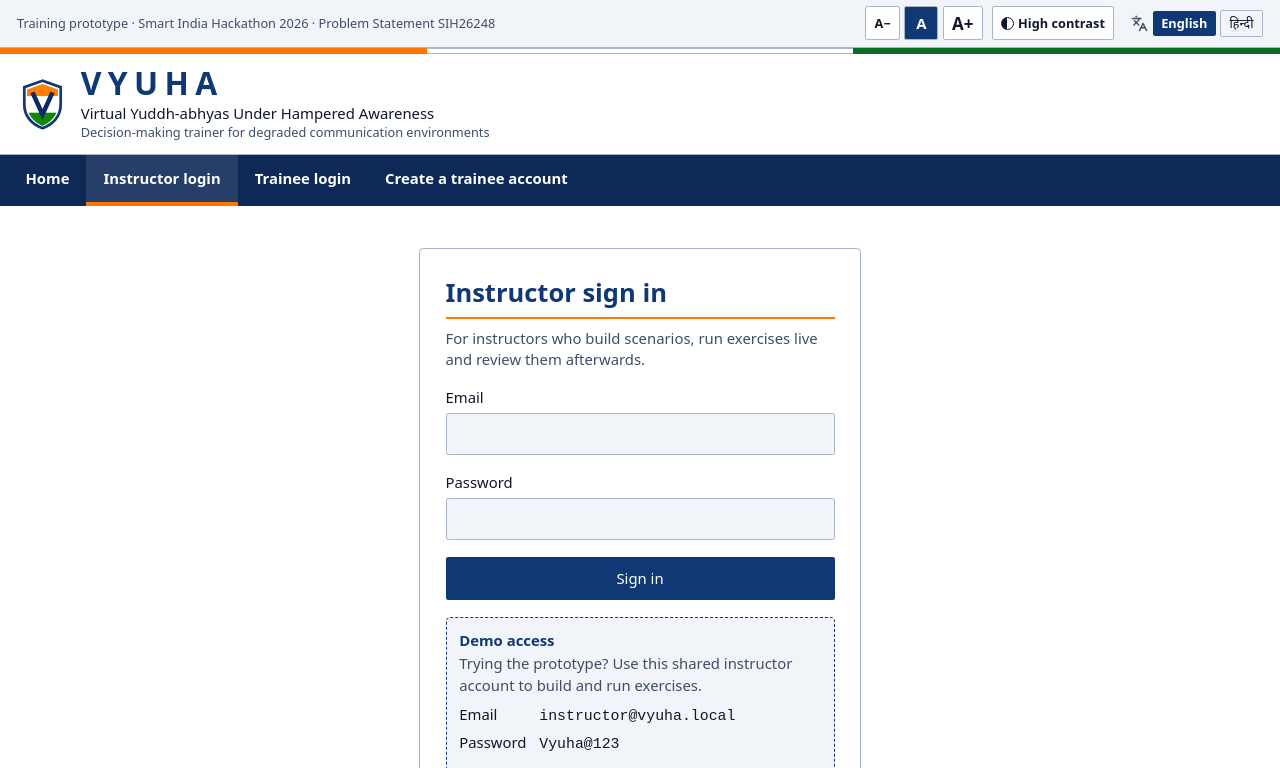
Test case: two sign-in options › drops the old server message when the next attempt fails the form checks
In the field labelled "Email": (640, 434) [446,413,834,455], type "t@x.io"
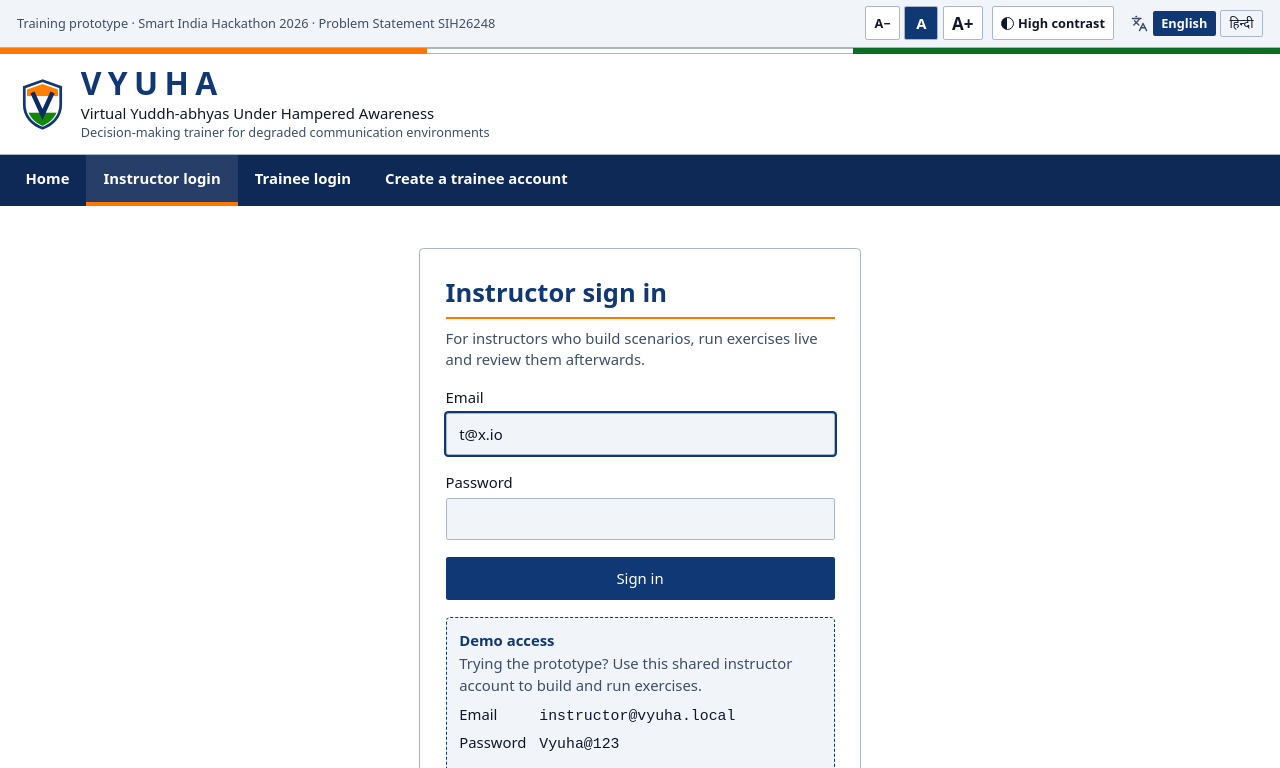
In the password field labelled "Password": (640, 519) [446,498,834,540], type "Vyuha@123"
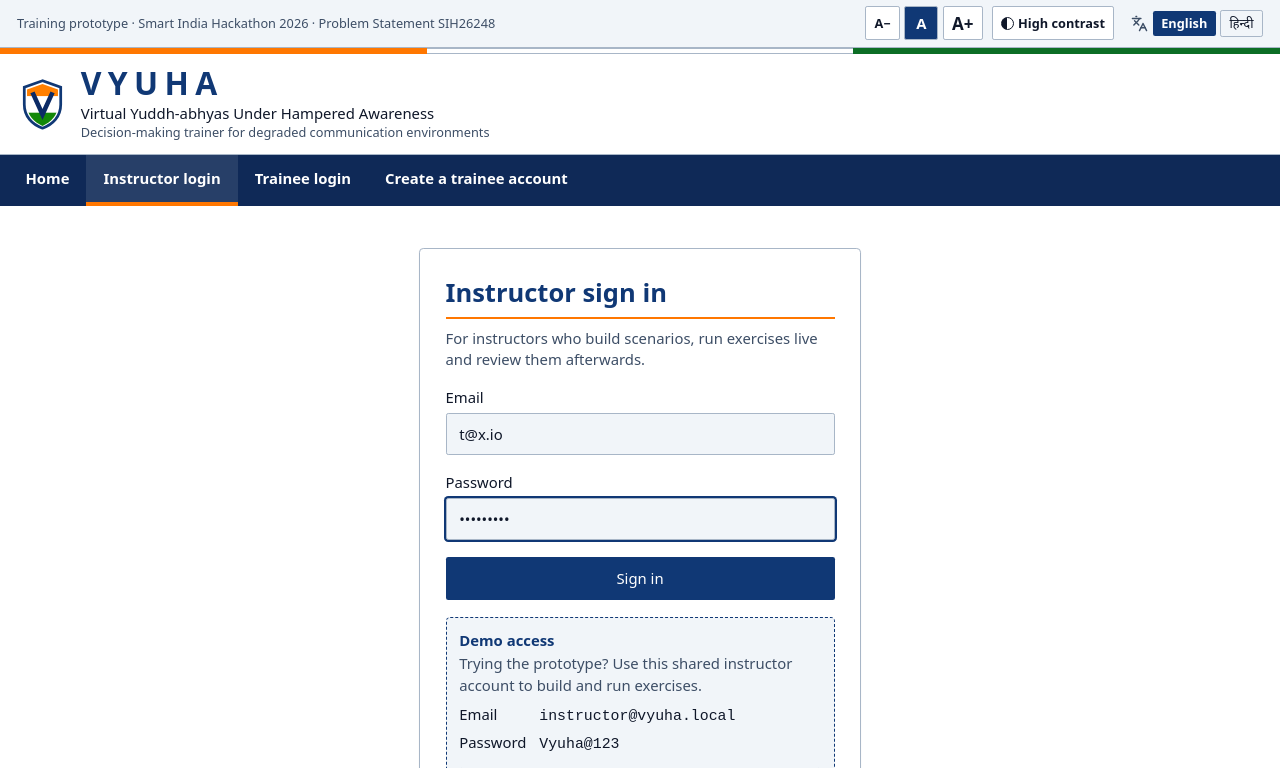
Click the button "Sign in": (640, 579) [446,557,834,600]
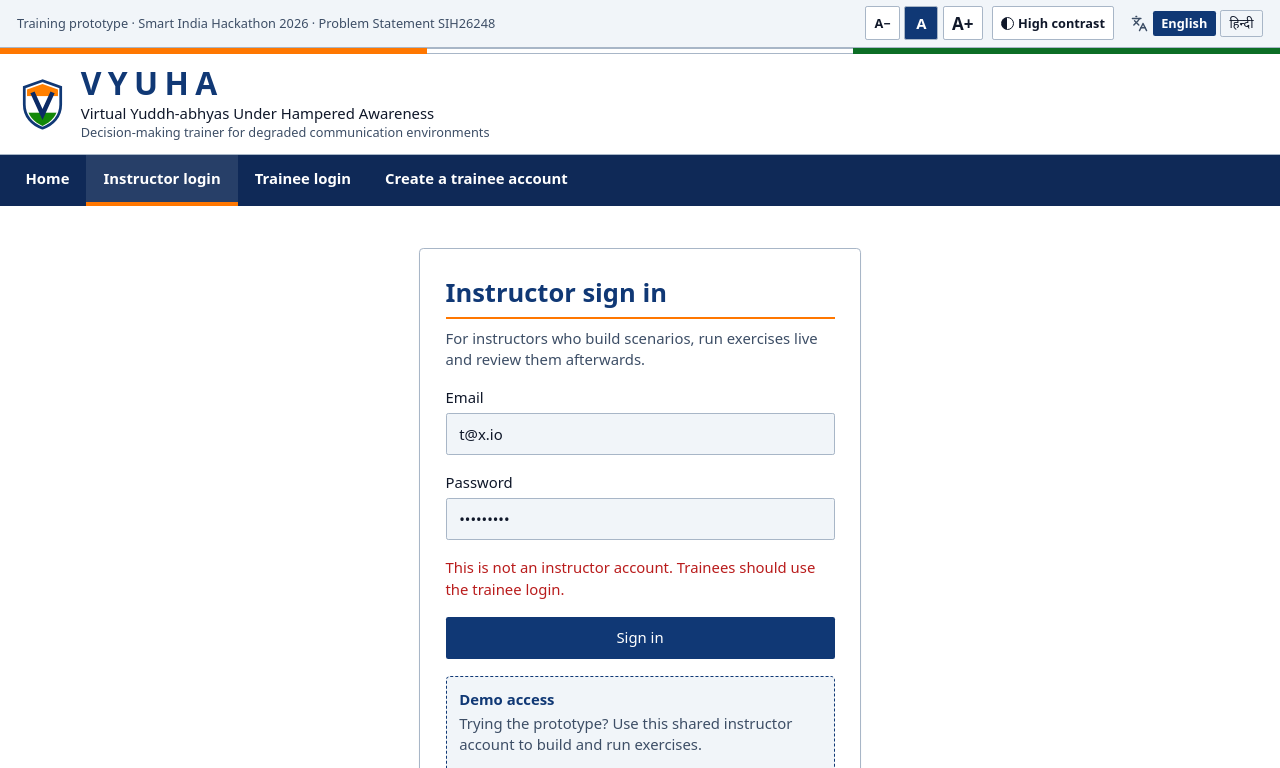
Expected: the message "This is not an instructor account. Trainees should use the trainee login." is shown, [446,557,834,600]
Clear the field labelled "Email": (640, 434) [446,413,834,455]
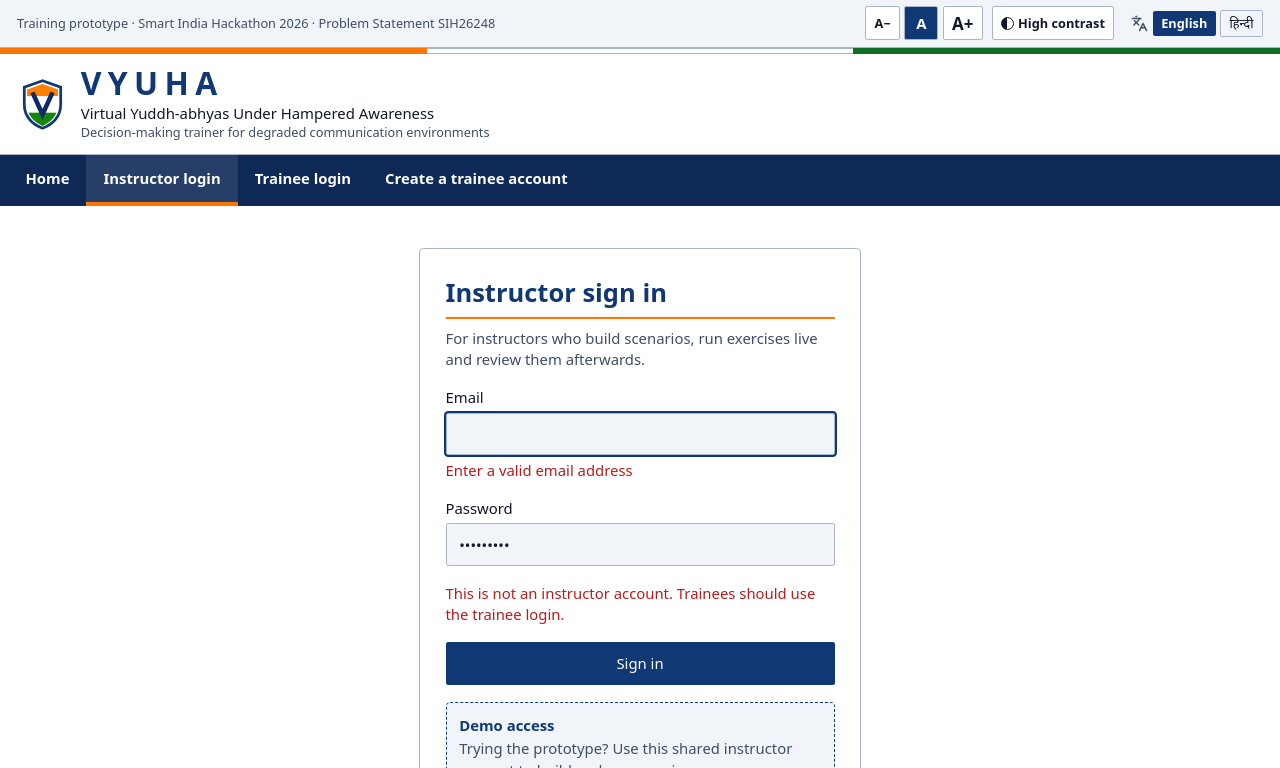
Clear the password field labelled "Password": (640, 545) [446,523,834,566]
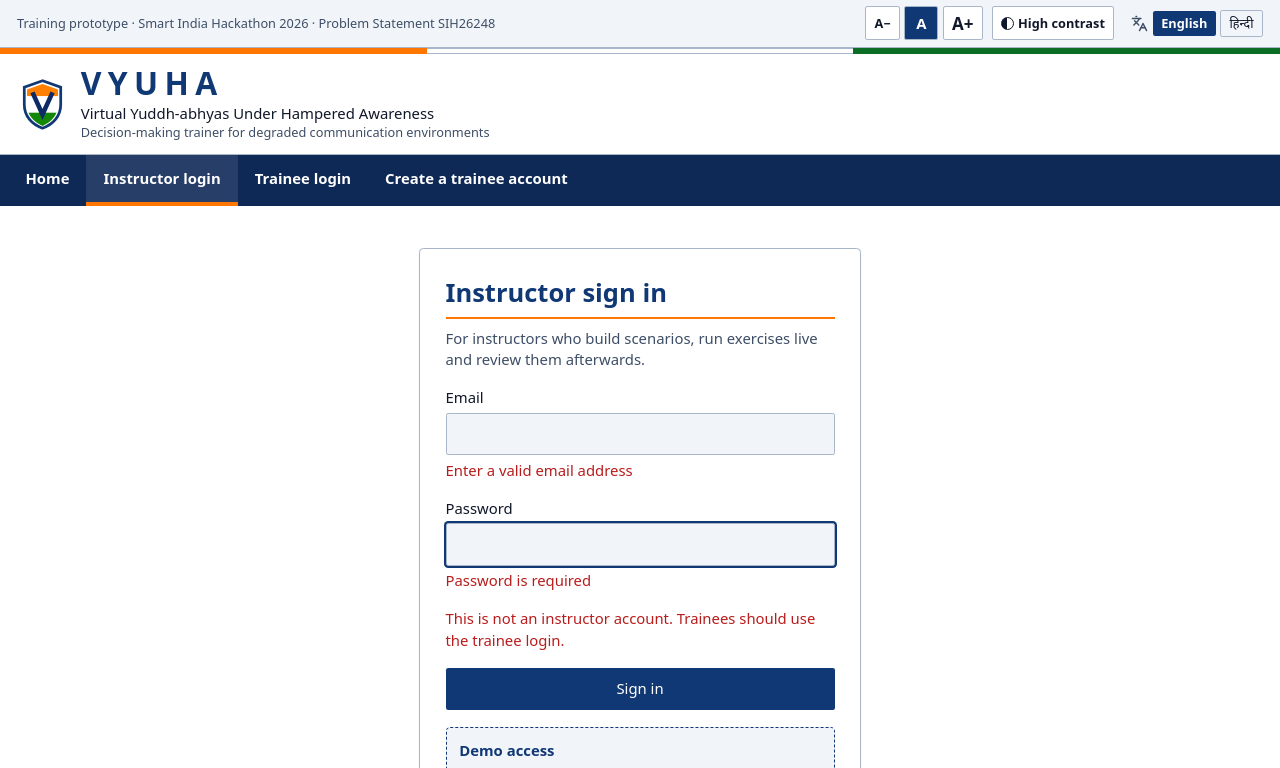
Click the button "Sign in": (640, 689) [446,668,834,710]
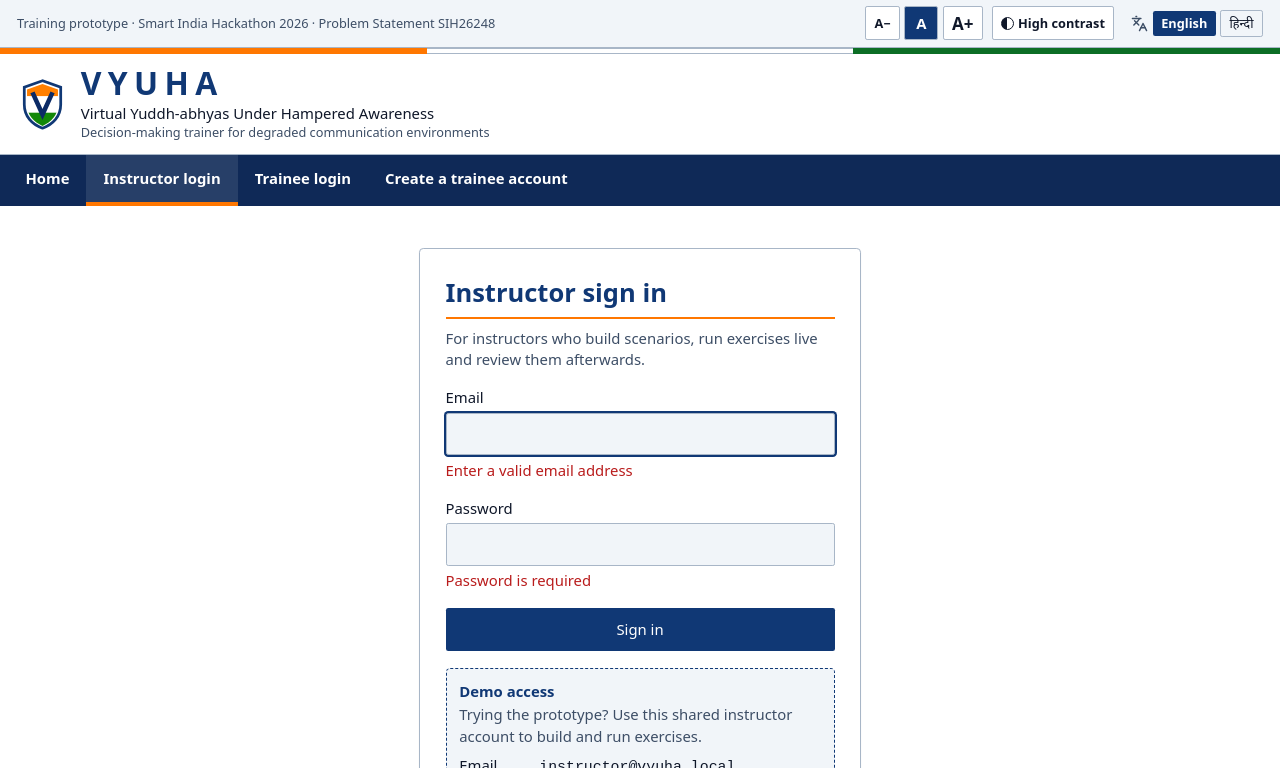
Expected: the text "Password is required" is shown, [446,570,591,590]
Expected: the text "not an instructor account" is gone
